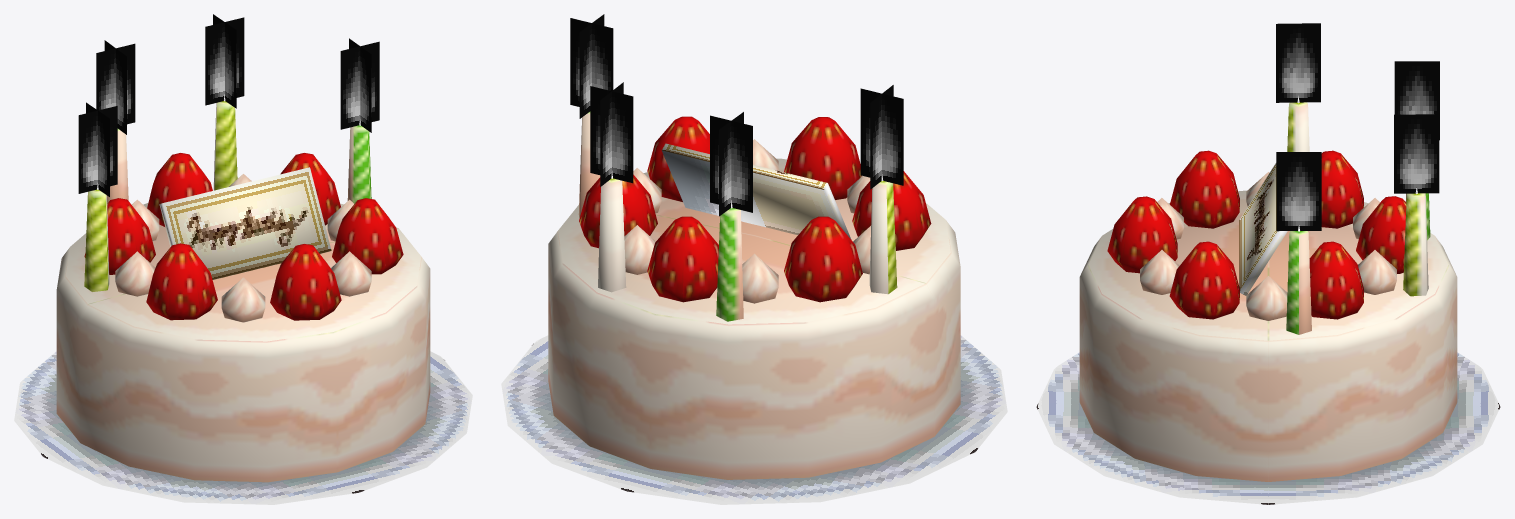
The model's file is int_oth_cake.dae.
3 views of the same model, side by side, from view 1: azimuth 30°, elevation 25°; view 2: azimuth 150°, elevation 25°; view 3: azimuth 270°, elevation 25° (orthographic). The views are drawn at different scales.
Parts seen in each view (by area): view 1: int_oth_cake; view 2: int_oth_cake; view 3: int_oth_cake.
Boxes of the visible parts, x1,y1,x2,y2 form: int_oth_cake: [14, 14, 472, 504]; int_oth_cake: [501, 14, 1007, 504]; int_oth_cake: [1036, 23, 1500, 504].
Bounding box in the file's own units: 26.83 × 20.41 × 26.83.
4 materials, 4 textured.
